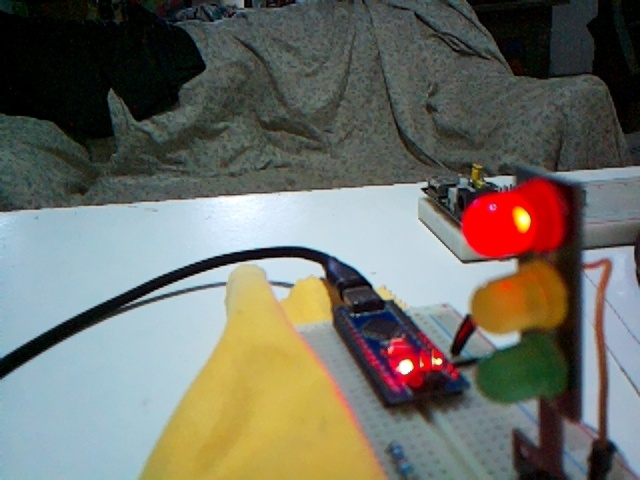traffic_light_red: (464, 163, 589, 478)
